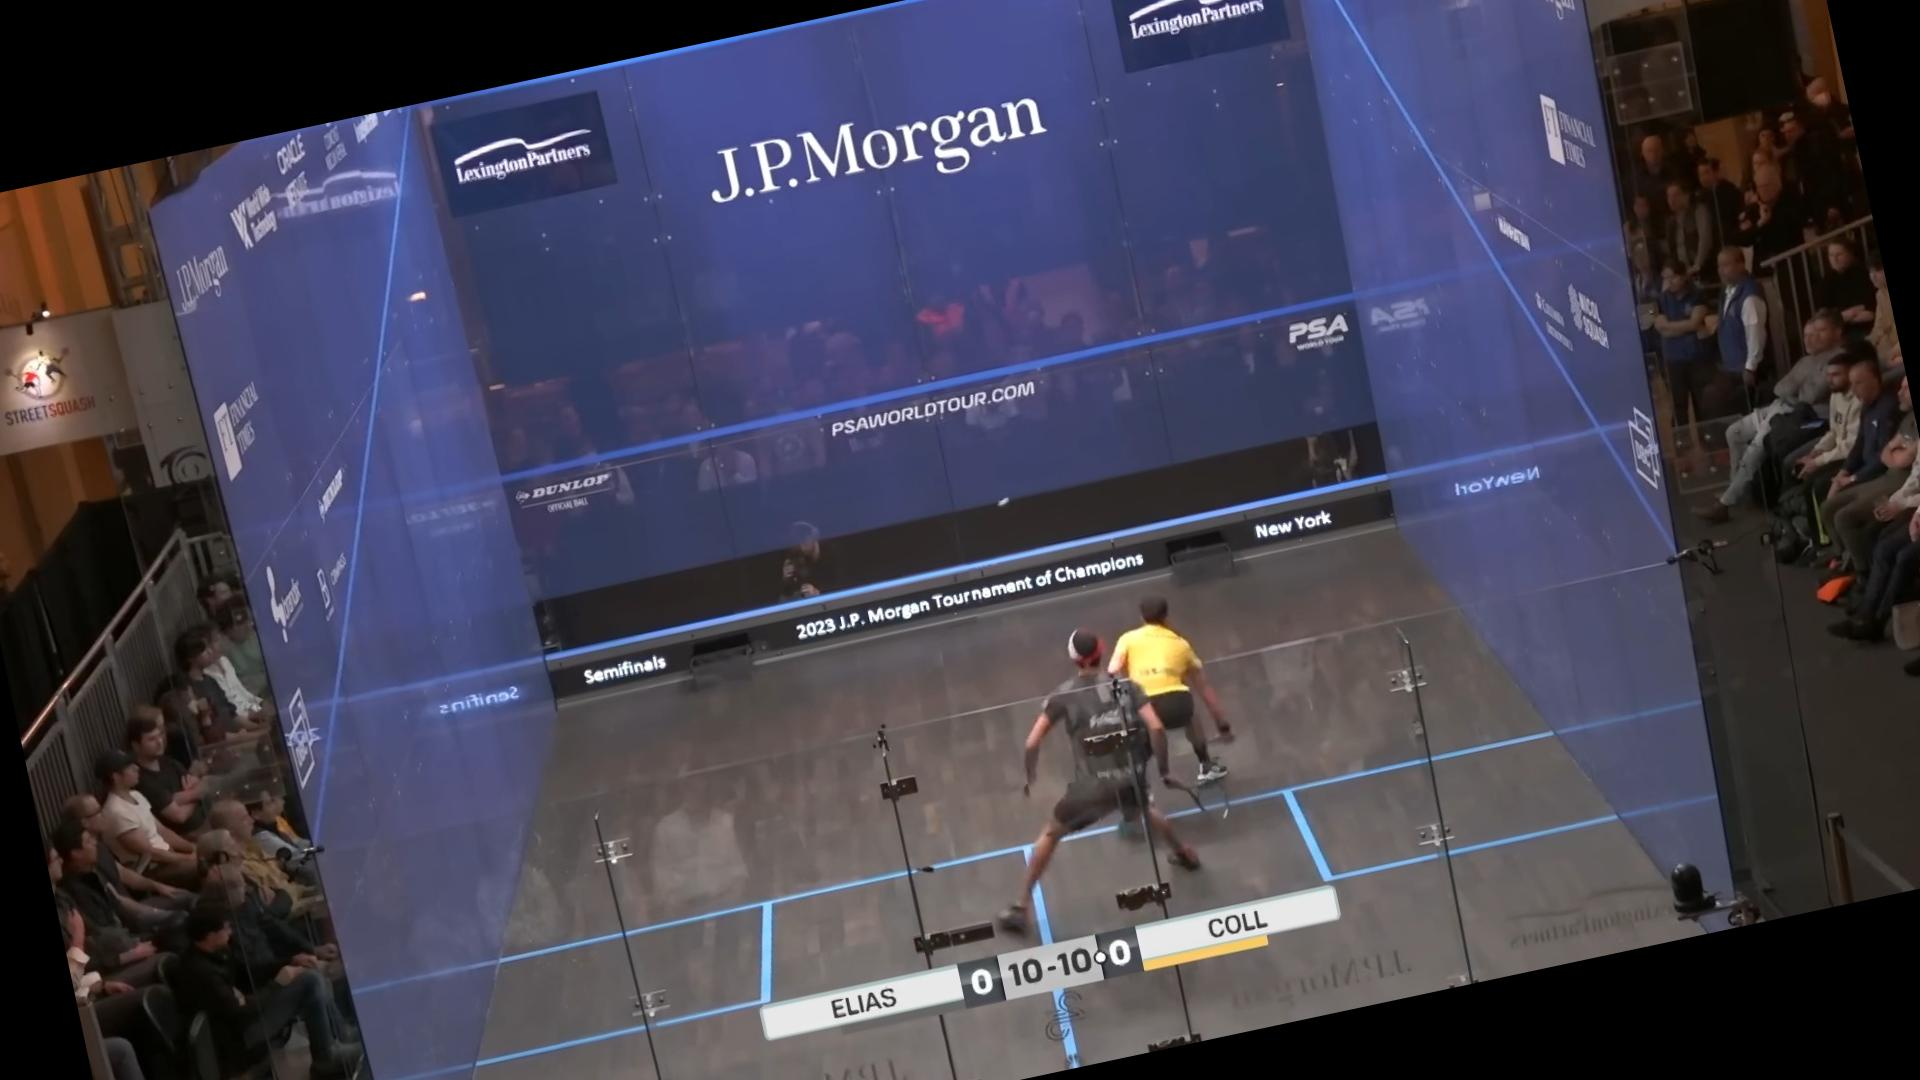Racket: (1170, 769, 1244, 833)
